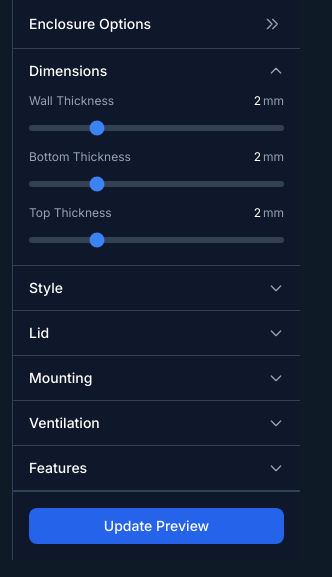
Scenario: EnclosureOptionsPanel › shows lid type selector
Step 1. Click the button "Lid" → (39, 332), box left=13, top=311, right=300, bottom=355
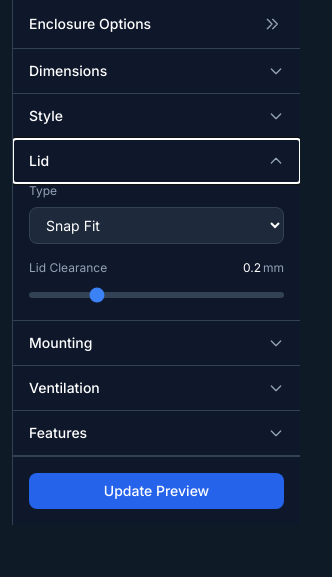
Now the text "Type" is shown, box left=29, top=183, right=57, bottom=198
Now the dropdown is shown, box left=29, top=207, right=284, bottom=244
